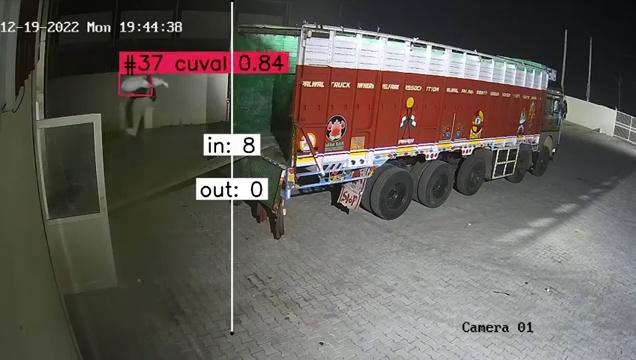karung: (121, 75, 150, 93)
